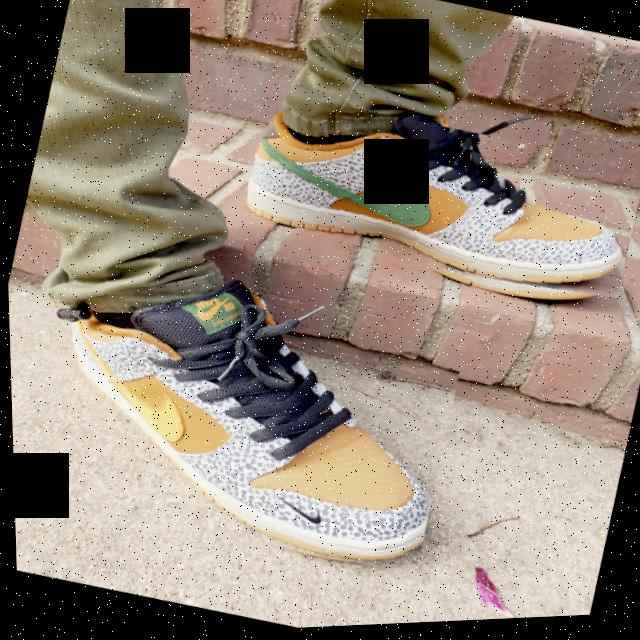shoe: (14, 261, 466, 596), (219, 77, 640, 337)
